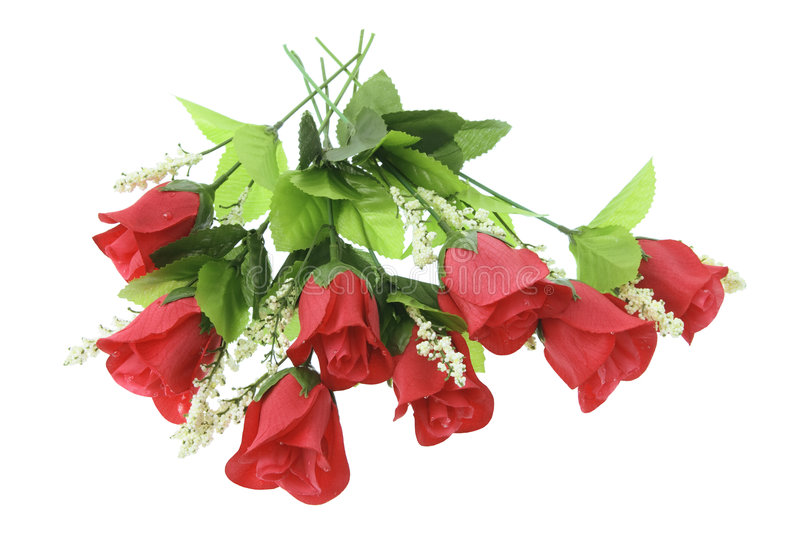RedRose: (104, 283, 234, 415), (531, 279, 654, 400), (387, 320, 501, 446), (286, 259, 390, 378), (623, 234, 730, 345), (246, 378, 343, 499), (101, 184, 210, 273)
